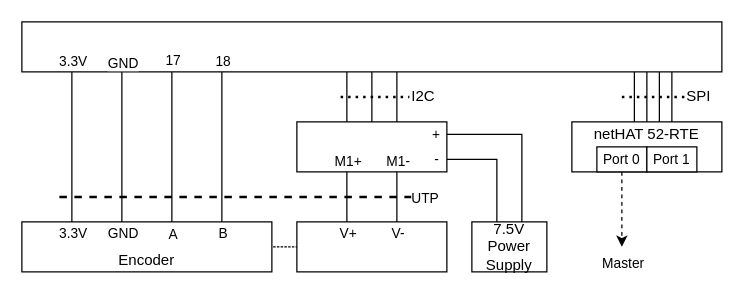
Image size: 744x295. Some labels were removed from this diagram. The shapes that lost their labels are listed below. From the top down, each one's centre as x and y in pixels, then its label:
the point at 371,46: Raspberry Pi GPIO
the point at 371,146: DFR0592
the point at 371,246: DC Motor
